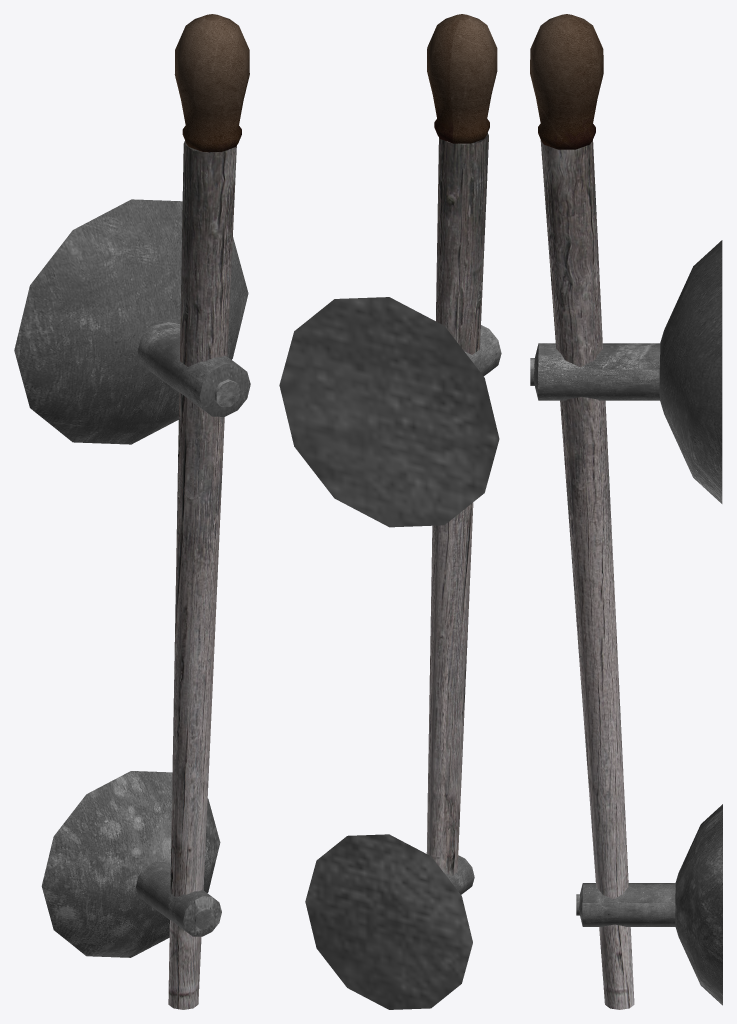
Rendered from torch.FBX.
3 renders of one model, left to right at view 1: azimuth 30°, elevation 25°; view 2: azimuth 150°, elevation 25°; view 3: azimuth 270°, elevation 25°, orthographic. The views are drawn at different scales.
Parts seen in each view (by area): view 1: Cylinder019; view 2: Cylinder019; view 3: Cylinder019.
Boxes of the visible parts, left/top/right/bottom form: Cylinder019: left=14, top=14, right=250, bottom=1009; Cylinder019: left=279, top=14, right=501, bottom=1009; Cylinder019: left=530, top=14, right=722, bottom=1009.
Bounding box in the file's own units: 25.62 × 105 × 18.61.
Materials: 1 (1 with a texture image).
